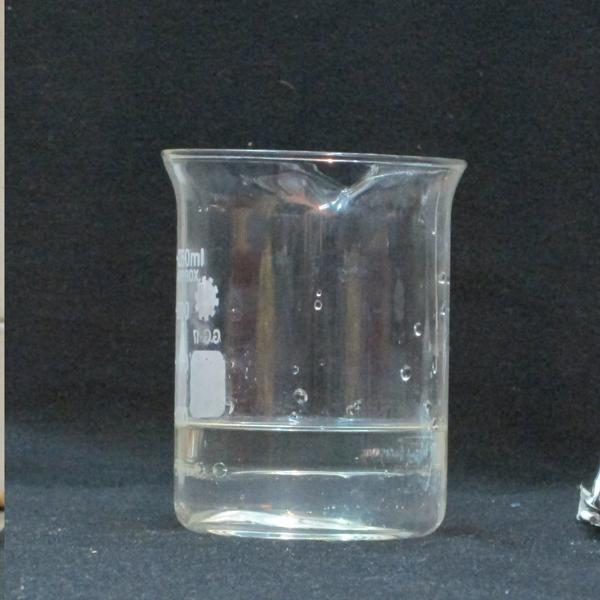Beaker: (150, 137, 473, 542)
